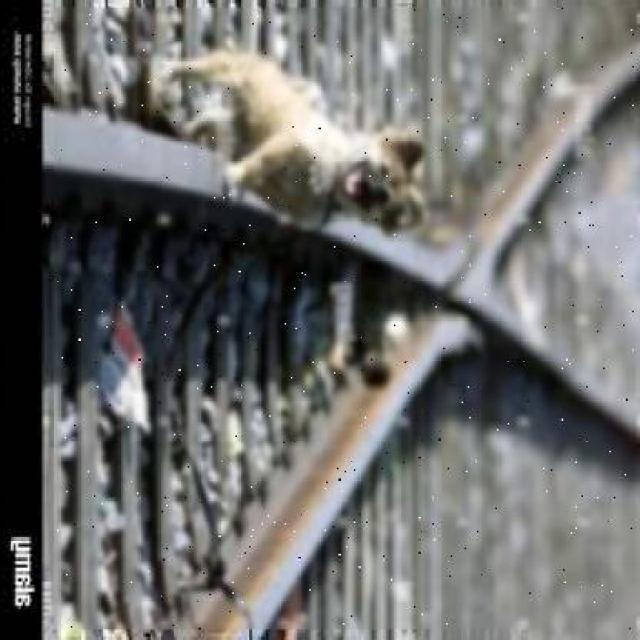danger: (163, 37, 424, 248)
rail: (52, 8, 634, 630)
